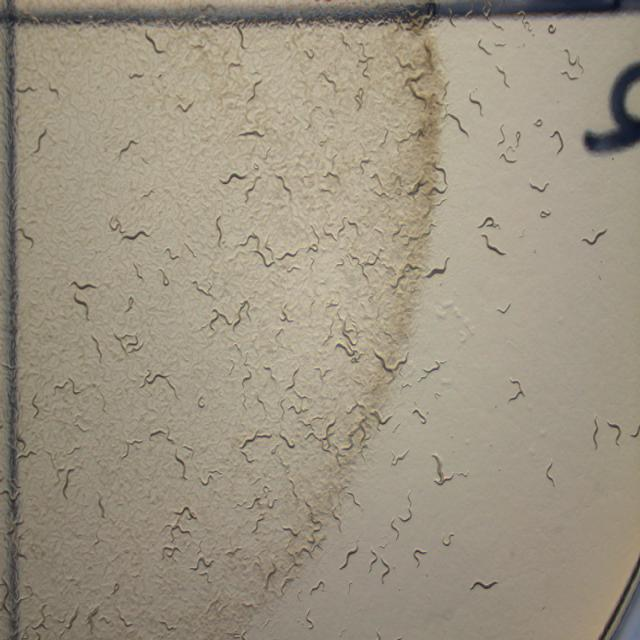filarid: (140, 372, 179, 399), (374, 350, 408, 371), (431, 454, 454, 485), (239, 429, 271, 449), (445, 113, 469, 137), (419, 360, 446, 381), (481, 234, 506, 255), (340, 541, 359, 568), (564, 48, 584, 73), (209, 309, 232, 330), (425, 258, 449, 278), (145, 30, 164, 53), (582, 229, 608, 245), (399, 490, 412, 522), (74, 294, 90, 319), (319, 72, 338, 92), (406, 82, 426, 101), (119, 140, 138, 159), (190, 556, 214, 571), (200, 469, 222, 485), (276, 175, 291, 198), (509, 380, 525, 401), (18, 227, 34, 248), (174, 505, 198, 519), (506, 130, 521, 152), (62, 469, 73, 499), (608, 420, 621, 445), (550, 130, 564, 153), (285, 367, 299, 390), (434, 163, 448, 186), (469, 90, 482, 114), (220, 172, 246, 184), (175, 450, 186, 478), (34, 128, 46, 153), (496, 65, 509, 88), (248, 80, 261, 103), (391, 449, 409, 465), (470, 581, 498, 591), (121, 230, 149, 240), (91, 335, 101, 363), (279, 432, 295, 449), (71, 280, 96, 290), (592, 415, 599, 450), (546, 460, 555, 487), (236, 23, 245, 50), (479, 217, 499, 229), (412, 407, 426, 424), (31, 392, 40, 418), (381, 557, 390, 583), (280, 577, 293, 595), (414, 547, 426, 566), (478, 38, 491, 55), (369, 547, 378, 571), (246, 495, 261, 509), (176, 100, 193, 112), (239, 128, 264, 136), (530, 182, 549, 192), (216, 215, 222, 246), (391, 517, 399, 540), (442, 532, 455, 546), (165, 247, 179, 260), (310, 581, 325, 593), (49, 82, 59, 99), (98, 492, 105, 516), (500, 153, 516, 163), (306, 609, 314, 628), (630, 424, 640, 439), (498, 123, 505, 144), (562, 72, 579, 80), (498, 304, 511, 314), (540, 209, 551, 219), (548, 23, 556, 33), (129, 73, 144, 78), (534, 118, 542, 127), (439, 187, 446, 194), (615, 437, 618, 443), (239, 310, 241, 319)
